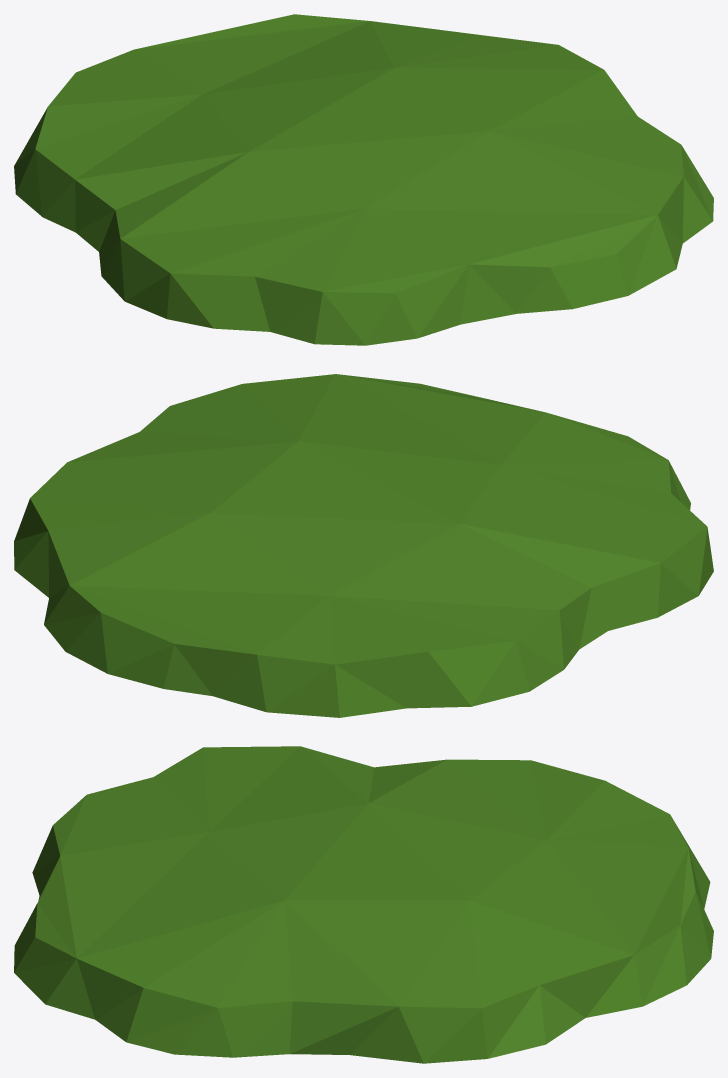
The model's file is um_grass004.FBX.
3 renders of one model, top to bottom at view 1: azimuth 30°, elevation 25°; view 2: azimuth 150°, elevation 25°; view 3: azimuth 270°, elevation 25°, orthographic. The views are drawn at different scales.
Parts seen in each view (by area): view 1: um_grass004; view 2: um_grass004; view 3: um_grass004.
Part boxes in pixels (x1,y1,x2,y2): um_grass004: (14, 14, 713, 345); um_grass004: (14, 374, 713, 717); um_grass004: (14, 746, 713, 1063).
Size of the model in its own units: 1.82 by 0.2112 by 1.92.
